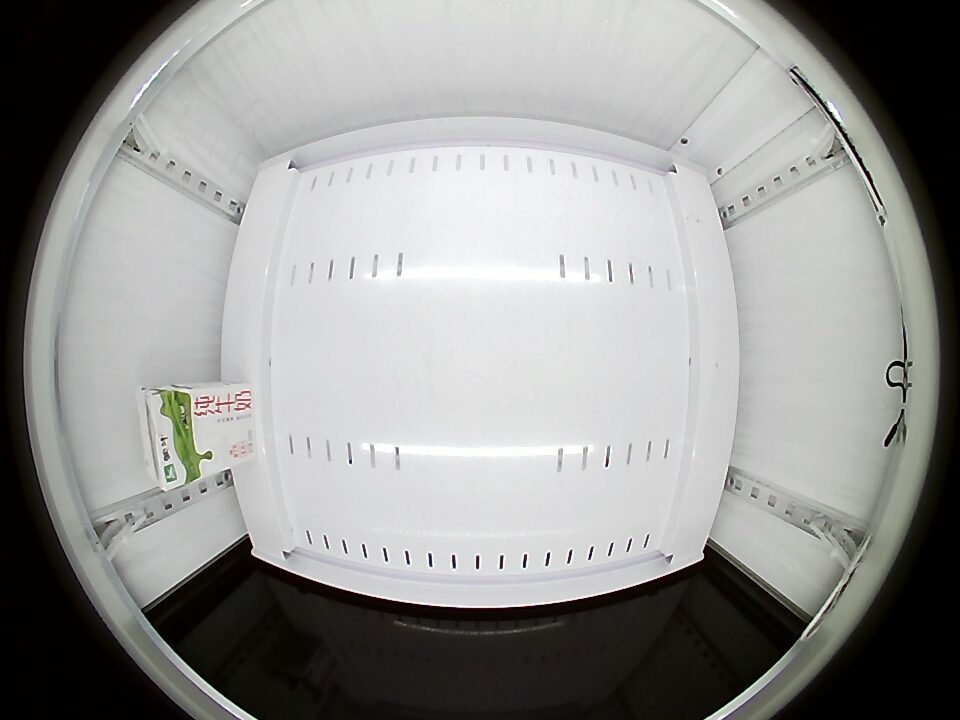mengniu: (137, 384, 205, 492)
